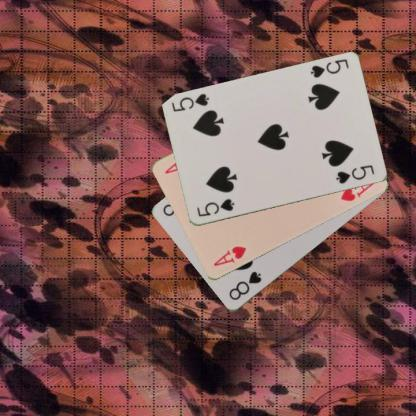5s: (308, 57, 350, 80), (194, 196, 236, 218)
8s: (226, 269, 263, 302)
Ah: (211, 243, 248, 268)
